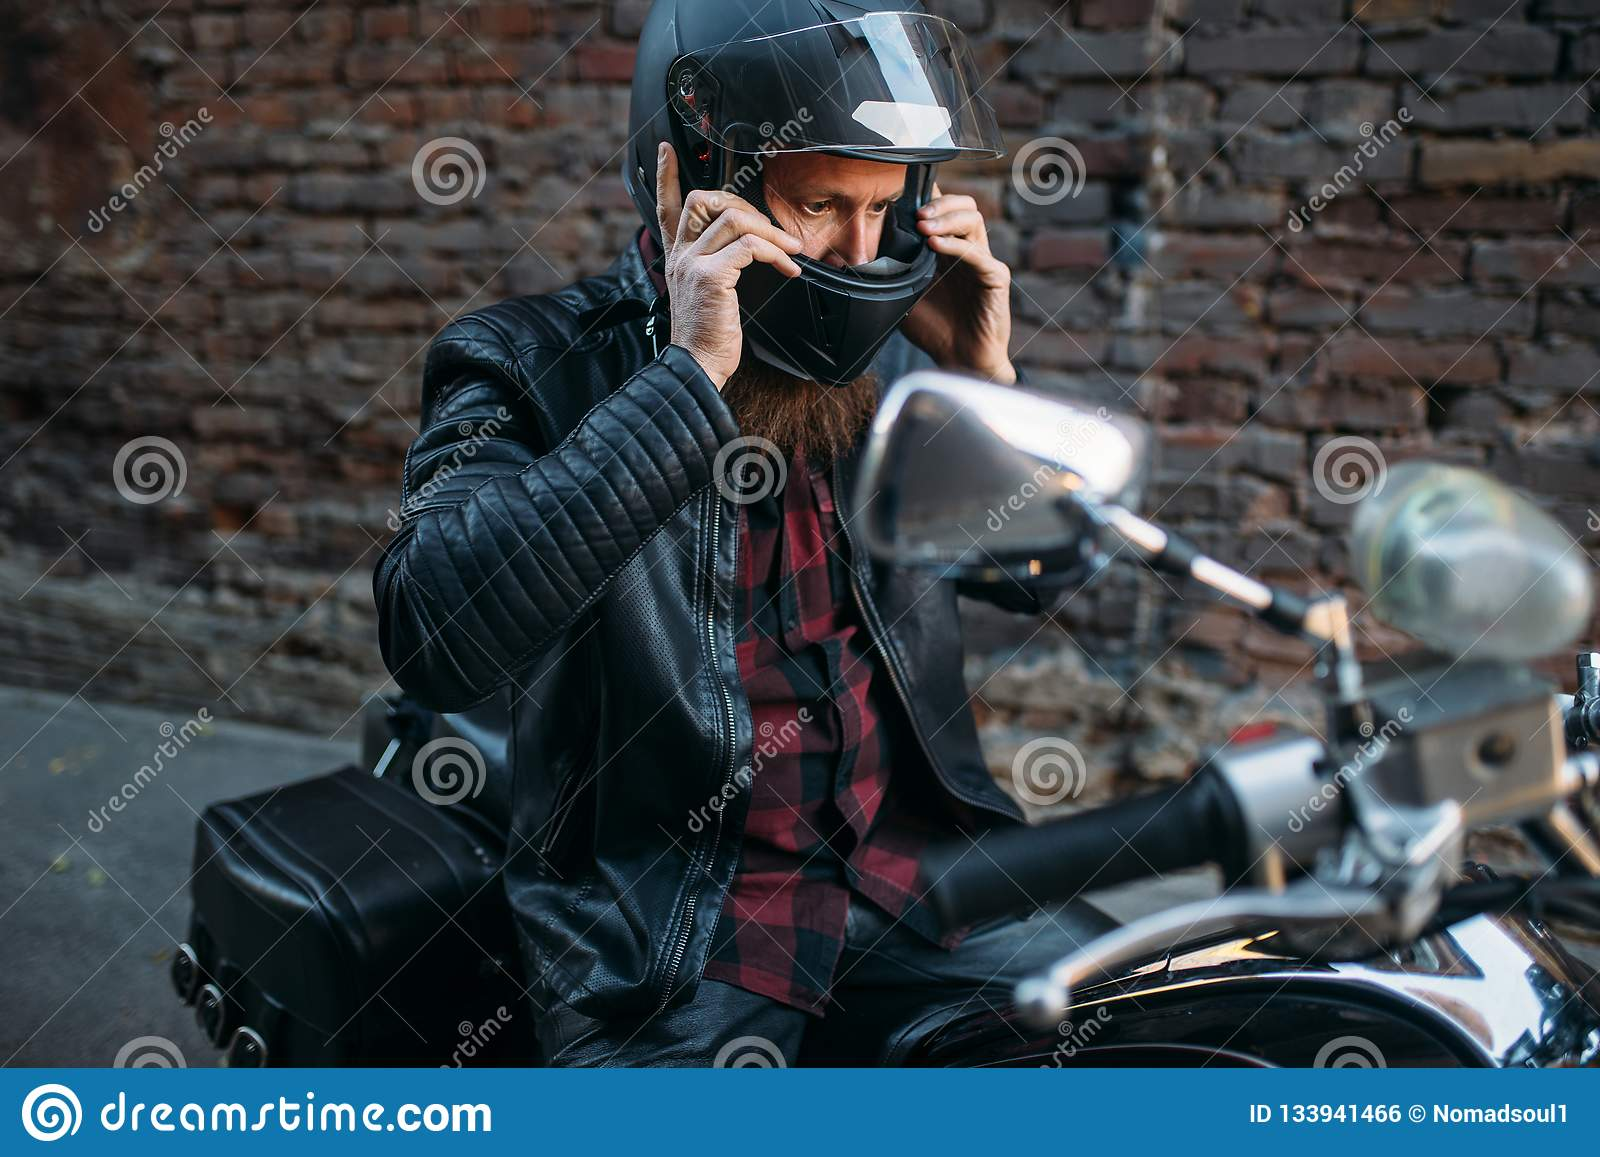helmet: (617, 9, 973, 375)
